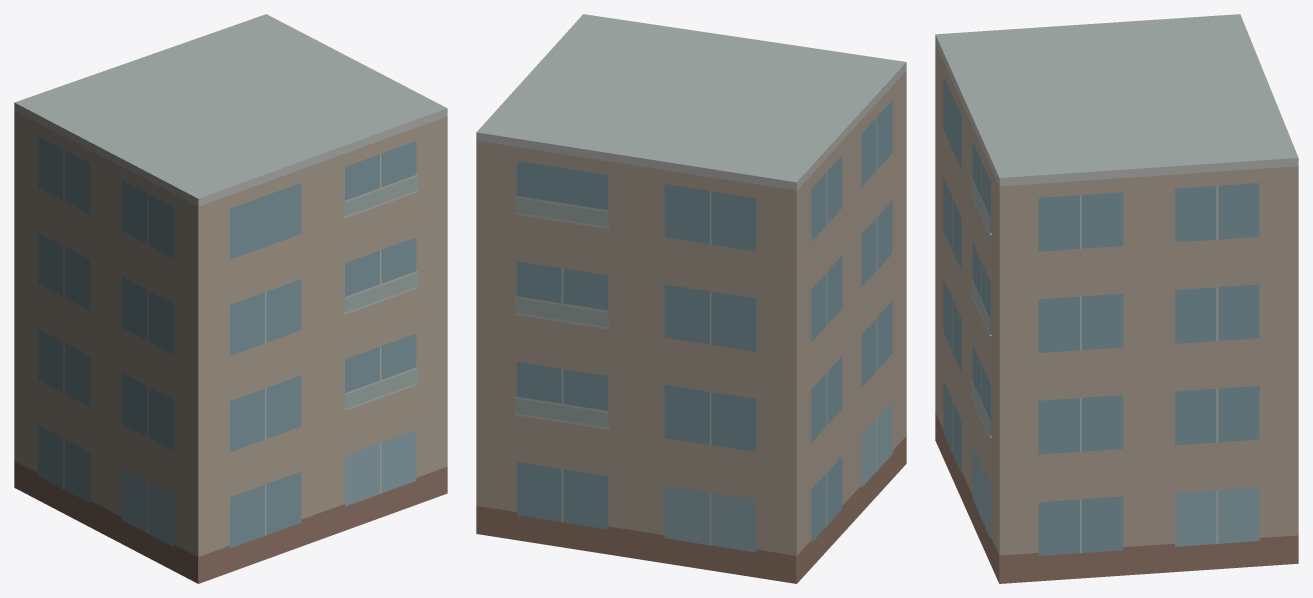
File: survey-upis-32561625.glb
The picture shows the model from 3 angles, left to right: view 1: azimuth 30°, elevation 25°; view 2: azimuth 150°, elevation 25°; view 3: azimuth 270°, elevation 25°; orthographic projection. The views are drawn at different scales.
Parts seen in each view (by area): view 1: survey-upis-32561625.tmp; view 2: survey-upis-32561625.tmp; view 3: survey-upis-32561625.tmp.
Part boxes in pixels (box(x1,y1,x2,y2)): survey-upis-32561625.tmp: box(14, 14, 447, 583); survey-upis-32561625.tmp: box(476, 14, 906, 583); survey-upis-32561625.tmp: box(935, 14, 1298, 583).
Size of the model in its own units: 10.29 by 11.85 by 9.62.
